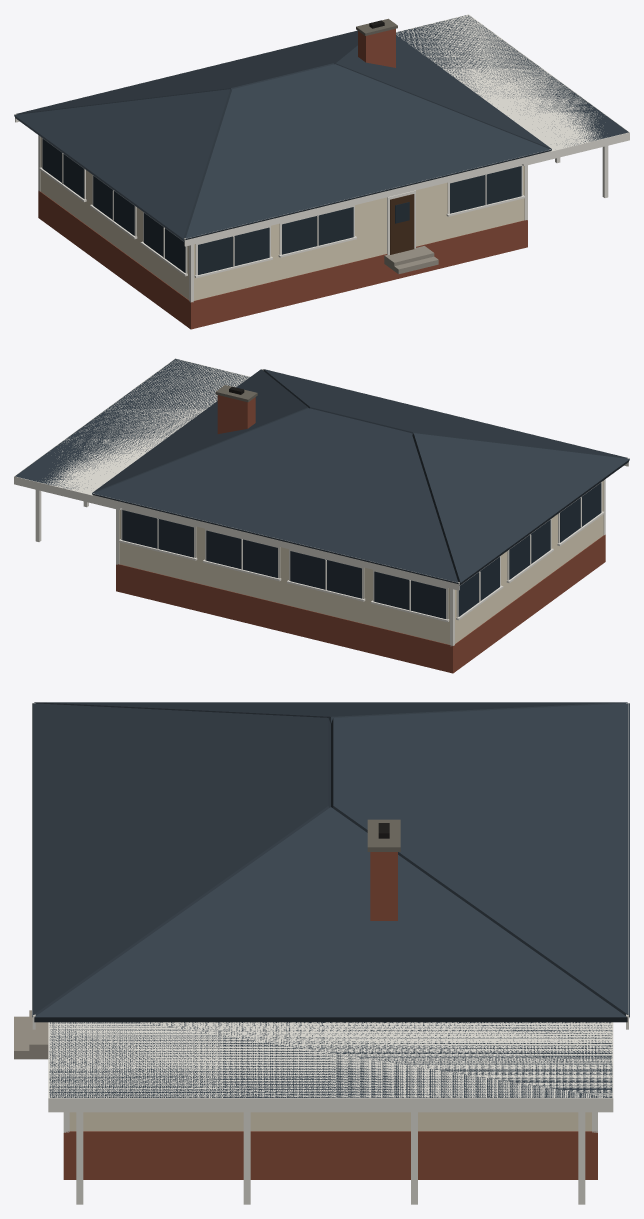
Rendered from frame-ranch-house-0001.glb.
3 renders of one model, top to bottom at view 1: azimuth 30°, elevation 25°; view 2: azimuth 150°, elevation 25°; view 3: azimuth 270°, elevation 25°, orthographic. The views are drawn at different scales.
Parts seen in each view (by area): view 1: house_roof, house_trim, house_wall_siding, house_foundation, house_glass, house_chimney, house_door, house_steps; view 2: house_roof, house_trim, house_foundation, house_glass, house_wall_siding, house_chimney; view 3: house_roof, house_trim, house_foundation, house_wall_siding, house_chimney, house_steps, house_chimneycap.
Boxes of the visible parts, bbox=[...] form: house_roof: bbox=[14, 15, 628, 241]; house_trim: bbox=[15, 14, 629, 302]; house_wall_siding: bbox=[40, 137, 524, 300]; house_foundation: bbox=[38, 190, 527, 329]; house_glass: bbox=[42, 139, 521, 274]; house_chimney: bbox=[358, 28, 395, 67]; house_door: bbox=[390, 194, 414, 254]; house_steps: bbox=[384, 246, 438, 274]; house_roof: bbox=[15, 358, 629, 585]; house_trim: bbox=[14, 358, 628, 646]; house_foundation: bbox=[116, 534, 605, 673]; house_glass: bbox=[122, 483, 601, 618]; house_wall_siding: bbox=[119, 481, 603, 644]; house_chimney: bbox=[217, 395, 255, 433]; house_roof: bbox=[32, 702, 629, 1097]; house_trim: bbox=[32, 703, 628, 1204]; house_foundation: bbox=[63, 1131, 597, 1179]; house_wall_siding: bbox=[69, 1112, 591, 1131]; house_chimney: bbox=[370, 852, 397, 920]; house_steps: bbox=[14, 1010, 48, 1059]; house_chimneycap: bbox=[367, 819, 400, 851].
Bounding box in the file's own units: 17.97 × 6.55 × 12.15.
